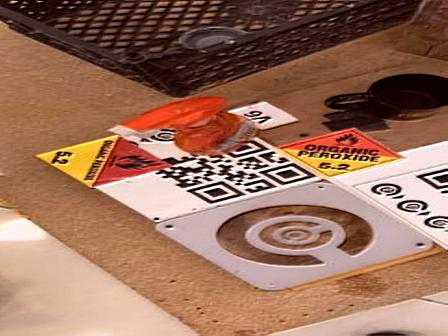organic-peroxide: (37, 135, 175, 189), (277, 128, 409, 178)
